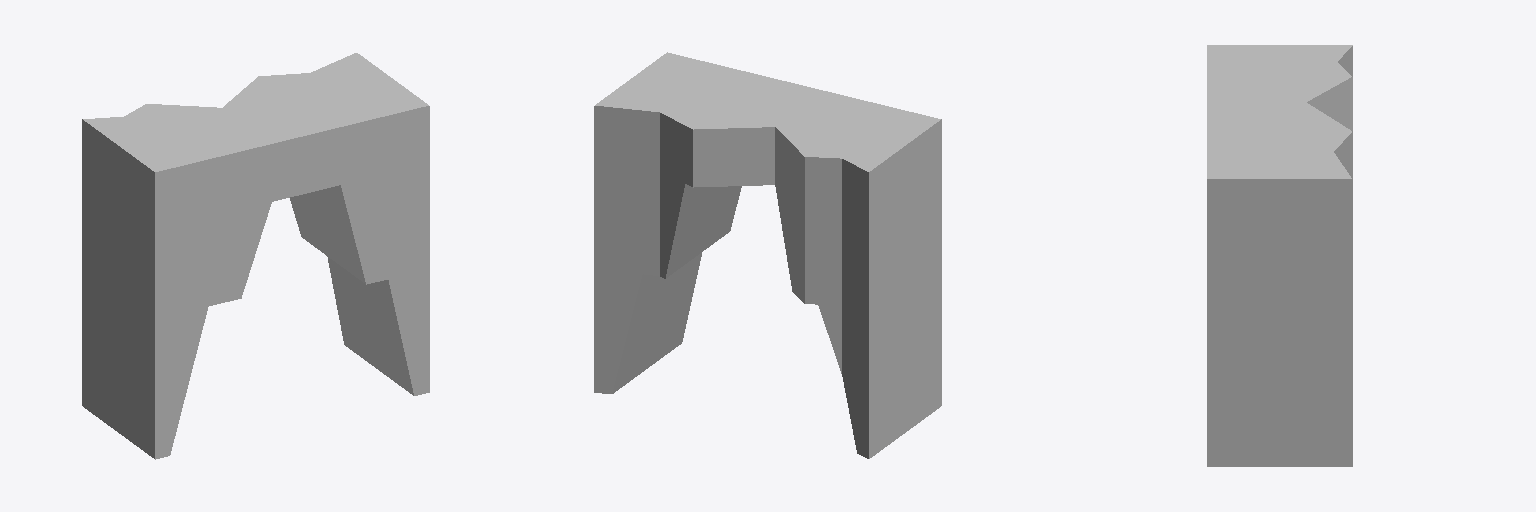
Rendered from cliffBrown_entrance.obj.
The picture shows the model from 3 angles: view 1: azimuth 30°, elevation 25°; view 2: azimuth 150°, elevation 25°; view 3: azimuth 270°, elevation 25°; orthographic projection.
Visible parts, largest first — view 1: cliffBrown_entrance; view 2: cliffBrown_entrance; view 3: cliffBrown_entrance.
Boxes of the visible parts, x1=… form: cliffBrown_entrance: x1=82, y1=53, x2=429, y2=459; cliffBrown_entrance: x1=594, y1=52, x2=941, y2=458; cliffBrown_entrance: x1=1207, y1=45, x2=1352, y2=466.
Bounding box in the file's own units: 10 × 10 × 4.58.